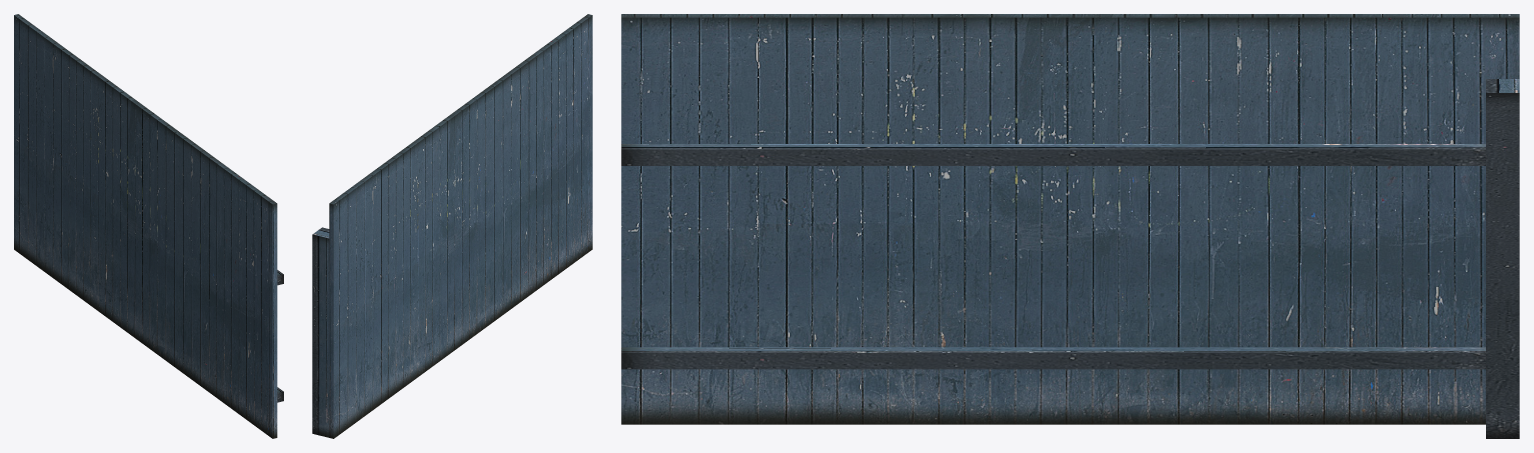
File: sibir_zabor_derevo6.FBX
3 views of the same model, side by side, from view 1: azimuth 30°, elevation 25°; view 2: azimuth 150°, elevation 25°; view 3: azimuth 270°, elevation 25° (orthographic). The views are drawn at different scales.
Visible parts, largest first — view 1: sibir_zabor_derevo6; view 2: sibir_zabor_derevo6; view 3: sibir_zabor_derevo6.
Part boxes in pixels (x1,y1,x2,y2): sibir_zabor_derevo6: [14, 14, 283, 438]; sibir_zabor_derevo6: [312, 14, 592, 438]; sibir_zabor_derevo6: [621, 14, 1519, 438].
Bounding box in the file's own units: 19.02 × 400 × 200.
